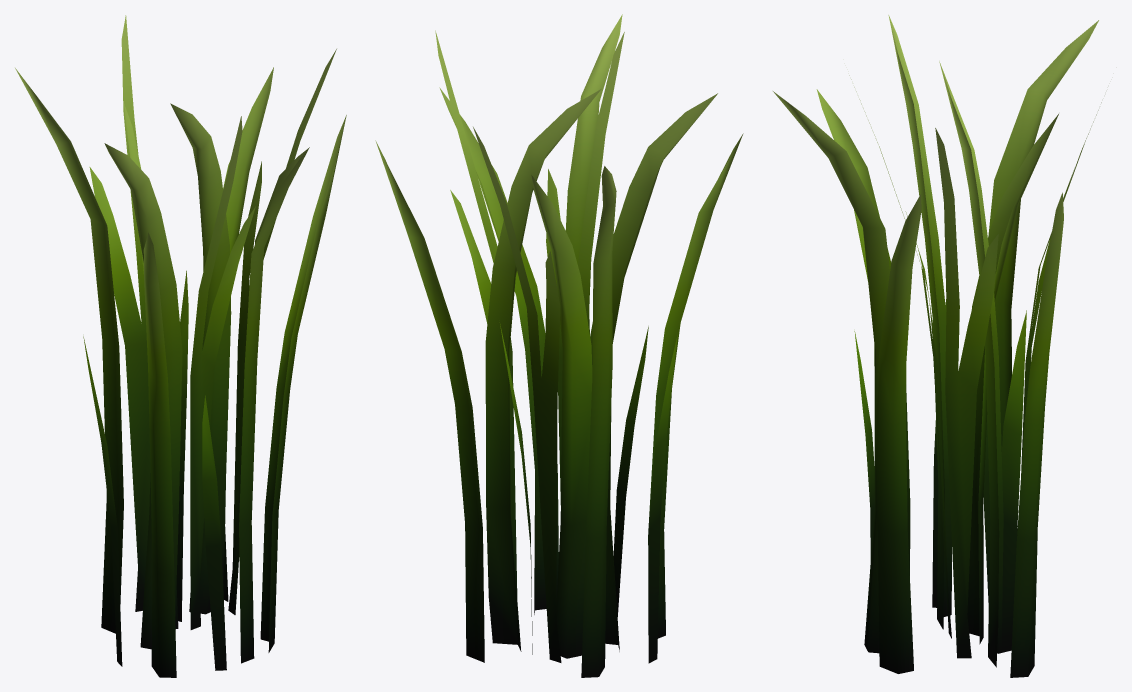
Rendered from Grass_Common_Tall.gltf.
3 renders of one model, left to right at view 1: azimuth 30°, elevation 25°; view 2: azimuth 150°, elevation 25°; view 3: azimuth 270°, elevation 25°, orthographic. The views are drawn at different scales.
Visible parts, largest first — view 1: Grass_Common_Tall; view 2: Grass_Common_Tall; view 3: Grass_Common_Tall.
Part boxes in pixels (<box>): Grass_Common_Tall: <box>15,15,346,677</box>; Grass_Common_Tall: <box>375,14,743,677</box>; Grass_Common_Tall: <box>773,15,1101,677</box>.
Bounding box in the file's own units: 0.8951 × 1.87 × 0.9931.
1 material, 1 textured.
